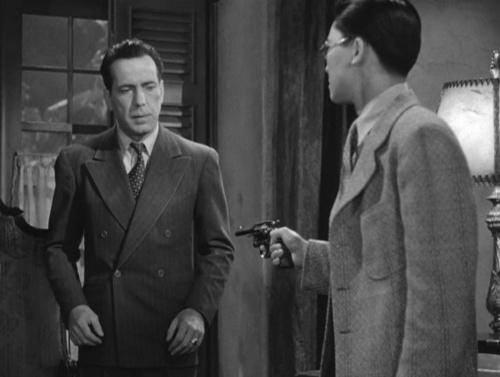Gun: (233, 218, 296, 267)
